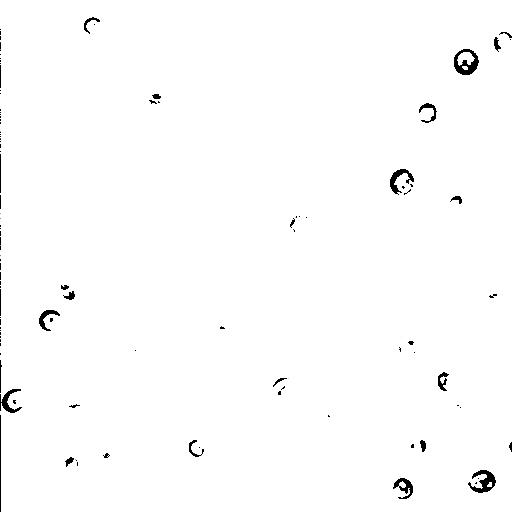micro-algae: (93, 47, 151, 107), (24, 250, 75, 297), (139, 181, 183, 228), (379, 17, 419, 56), (293, 0, 338, 33), (395, 325, 429, 367), (115, 334, 152, 365), (267, 375, 303, 405), (91, 440, 123, 471), (450, 49, 480, 76), (389, 166, 415, 196), (50, 280, 81, 305), (1, 387, 29, 413), (467, 469, 497, 493), (97, 36, 125, 59), (287, 211, 311, 236), (37, 310, 63, 333), (1, 359, 23, 385), (62, 401, 87, 423), (59, 457, 81, 481), (390, 479, 415, 500), (491, 29, 511, 55), (436, 372, 457, 393), (417, 101, 437, 123), (187, 437, 205, 458), (481, 292, 503, 309), (409, 435, 427, 453), (83, 16, 100, 34), (501, 313, 511, 340), (448, 195, 463, 210)
